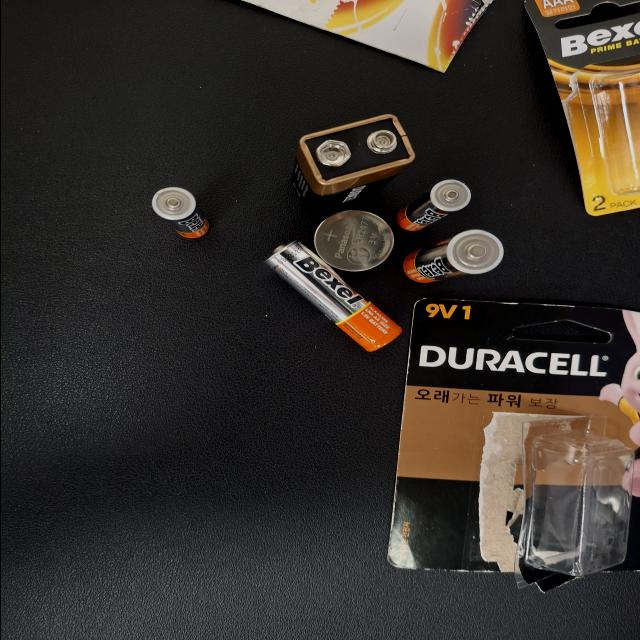9V: (358, 218, 488, 310)
AA: (172, 198, 318, 300), (262, 302, 334, 376)
AAA: (332, 297, 401, 353), (322, 113, 390, 156)
COIN: (278, 234, 360, 294)
